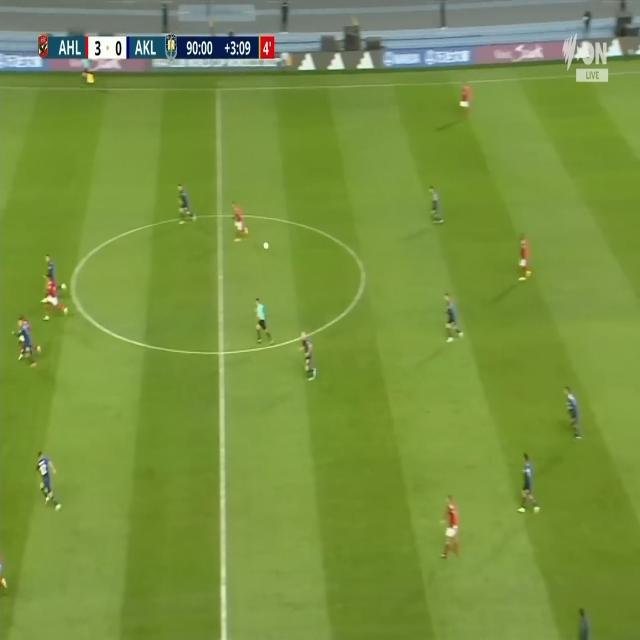Ball: (262, 236, 270, 255)
Player: (35, 452, 62, 518), (439, 488, 462, 564), (440, 289, 467, 353), (517, 452, 540, 522), (556, 380, 581, 443), (38, 254, 67, 301), (17, 313, 45, 361), (44, 277, 70, 328), (298, 328, 319, 387), (174, 177, 196, 229), (516, 228, 536, 283), (456, 75, 476, 119), (426, 180, 443, 229), (232, 198, 249, 242), (18, 327, 34, 367)
Ref: (252, 292, 276, 351)
